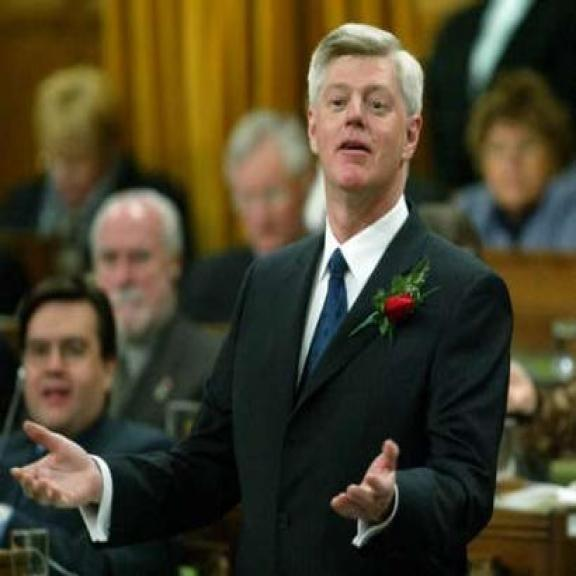face: (303, 54, 429, 196), (23, 305, 118, 437), (92, 210, 182, 335), (476, 112, 550, 220), (232, 157, 304, 263), (51, 134, 118, 206)
